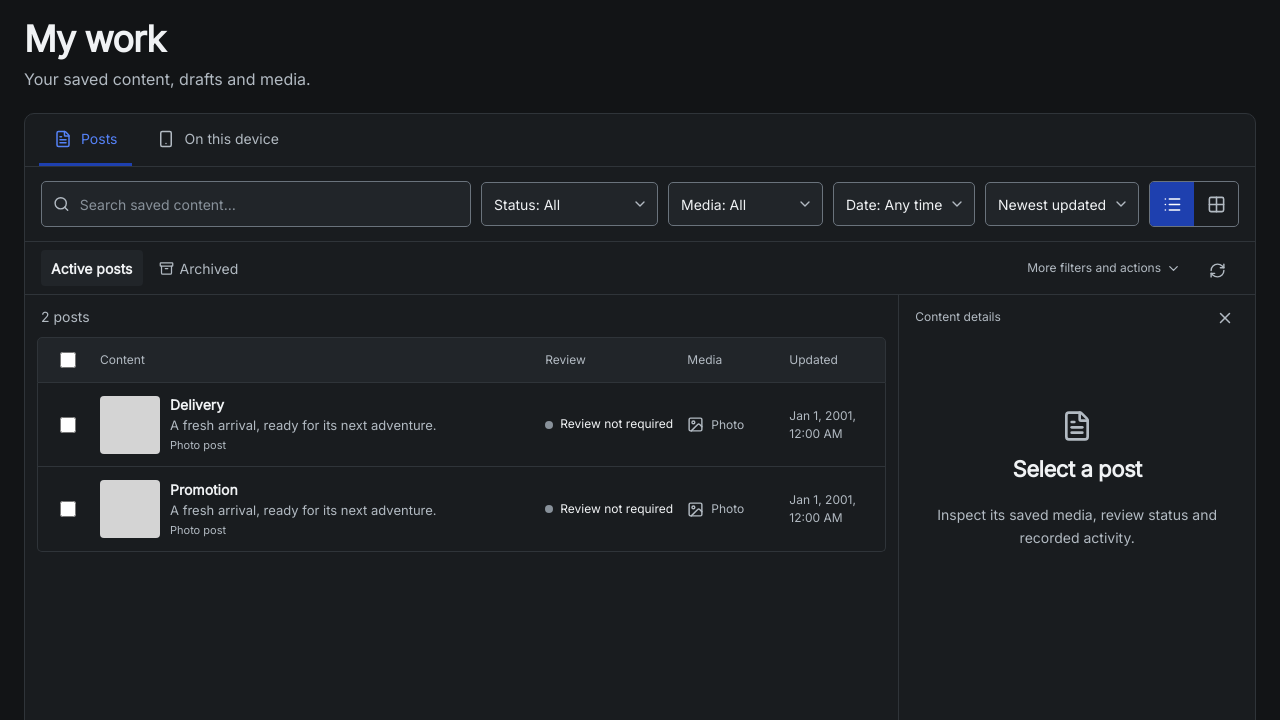
it: Content workspace › keeps failed selected items on partial bulk failure
The width and height of the screenshot is (1280, 720).
(page scrolled)
Click the checkbox named "Select up to 50 loaded posts" at (68, 360), box [60,352,76,368]
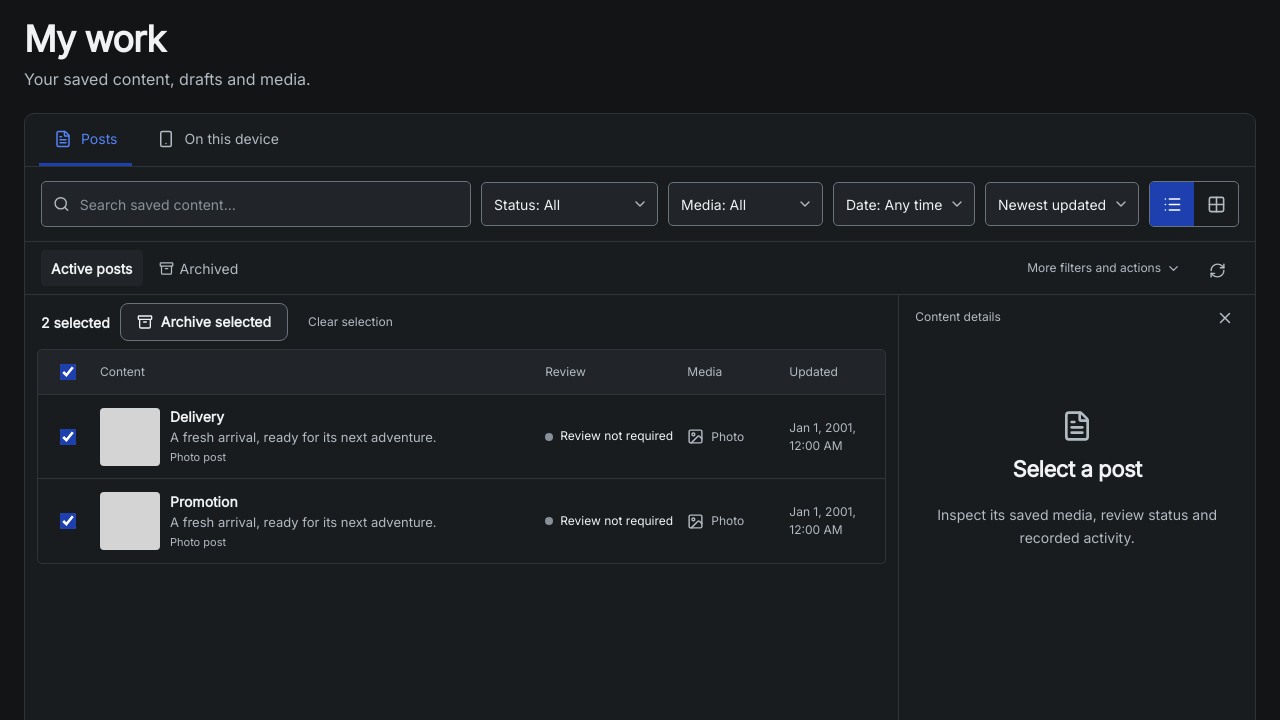
Click the button "Archive selected" at (204, 322), box [120,303,288,341]
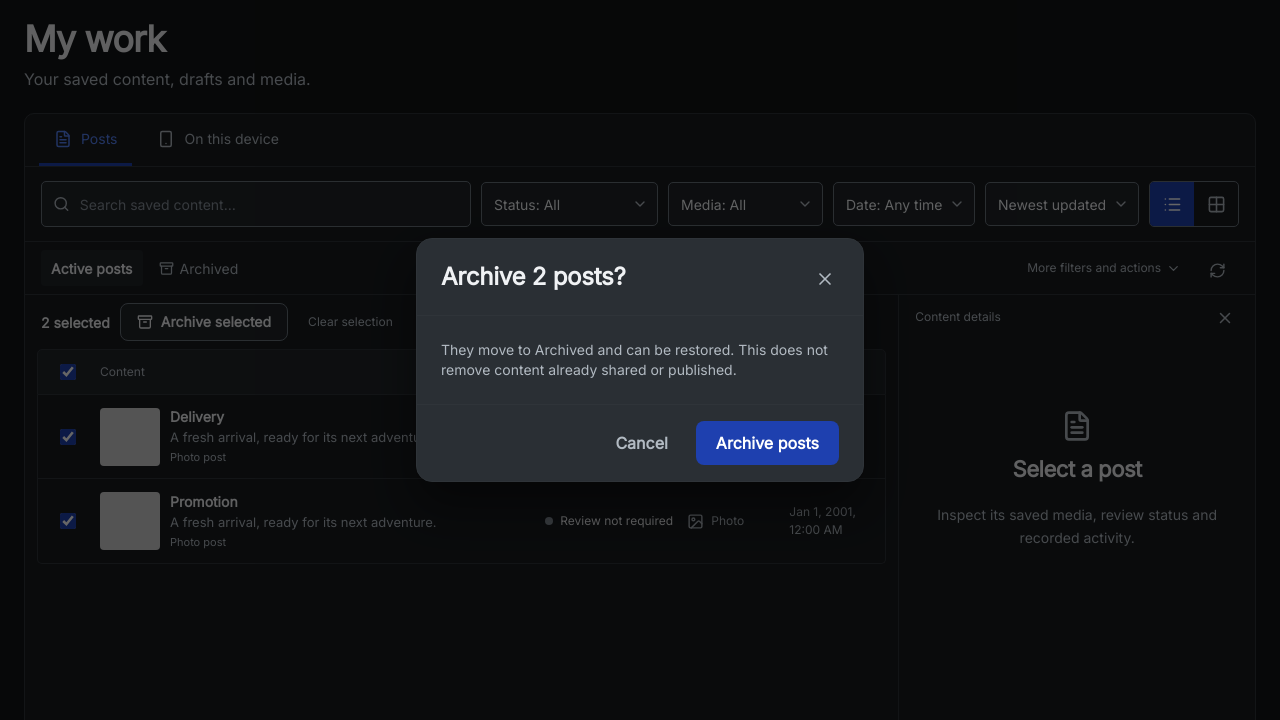
Click the button "Archive posts" at (767, 443), box [696,421,839,465]
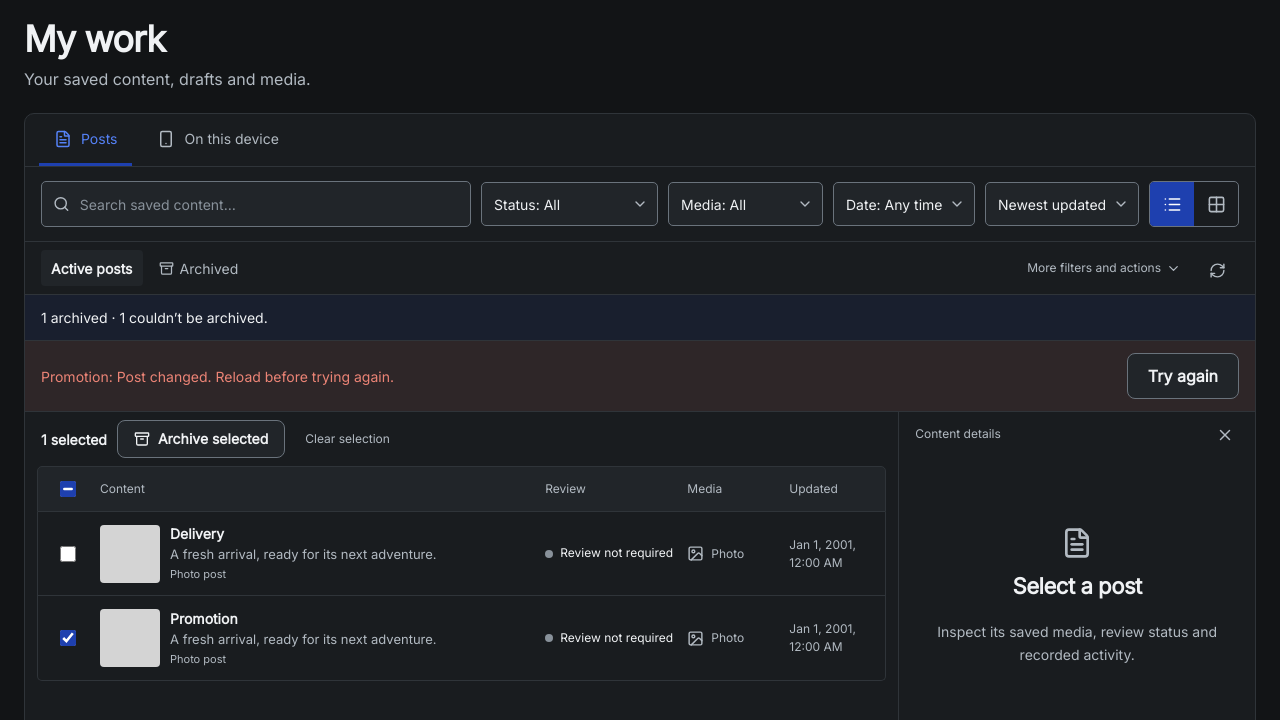
Result: the checkbox named "Select Promotion for bulk actions" is checked at [60,630,76,646]
Result: the text "1 archived · 1 couldn’t be archived." is shown at [25,295,1255,341]
Result: the checkbox named "Select Delivery for bulk actions" is not checked at [60,546,76,562]
